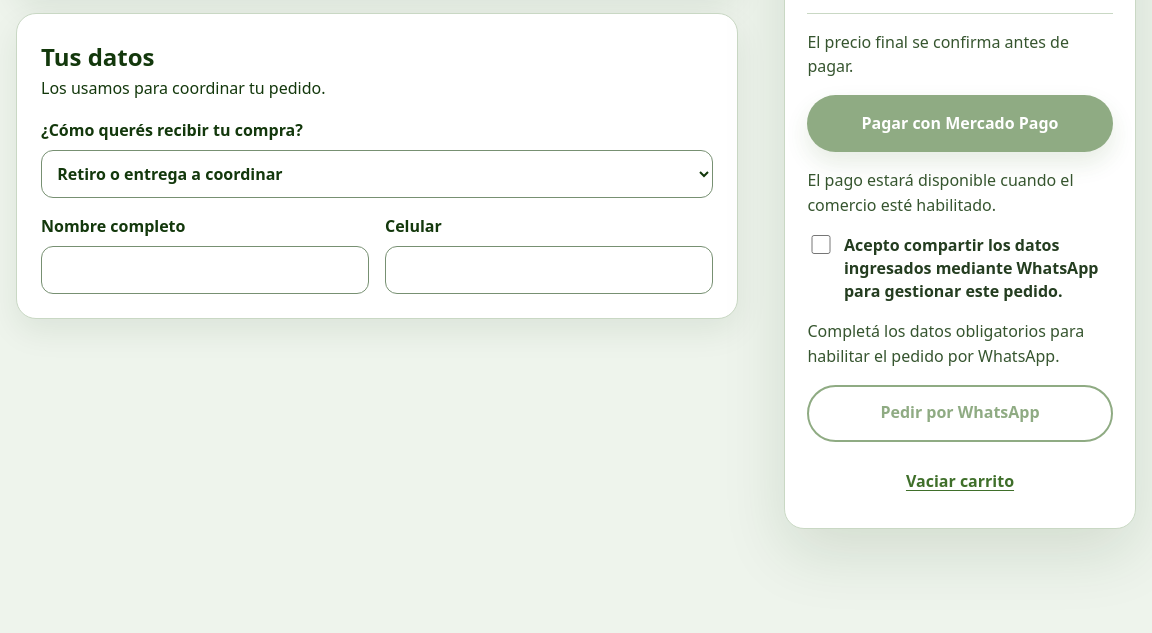
Test: CartPage › confirma el vaciado con contexto, Escape cancela y el resultado queda explícito
(page scrolled)
Click the button "Vaciar carrito" at (960, 482), box [807,458,1113,506]
(page scrolled)
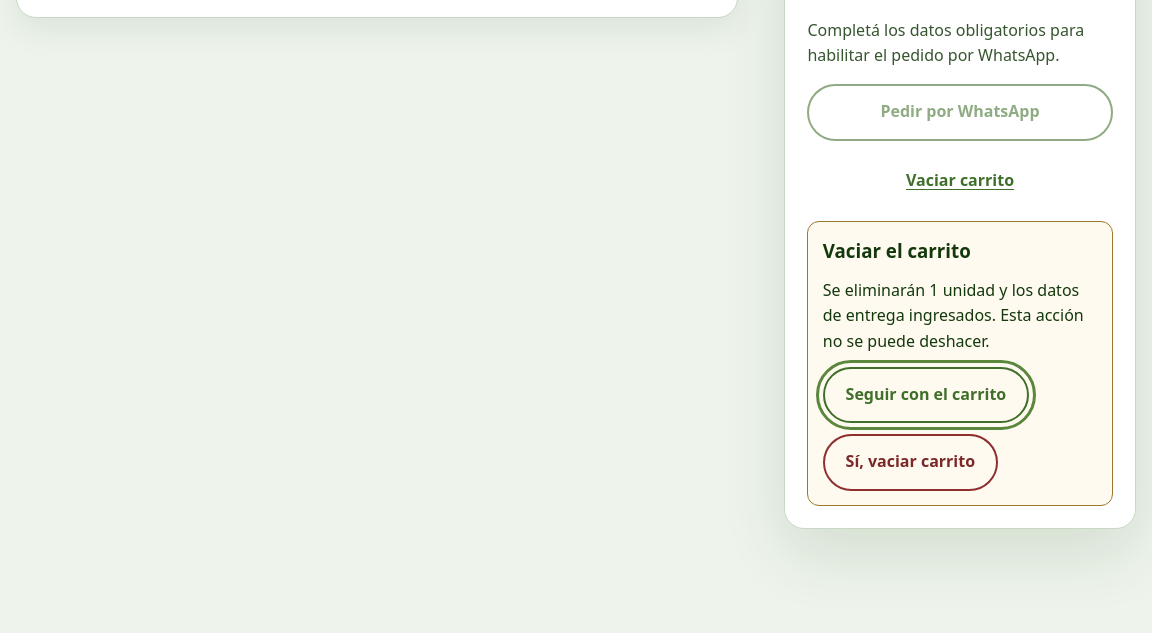
Expected: the dialog "Vaciar el carrito" shows "Se eliminarán 1 unidad", [807,220,1113,506]
Press Escape
(page scrolled)
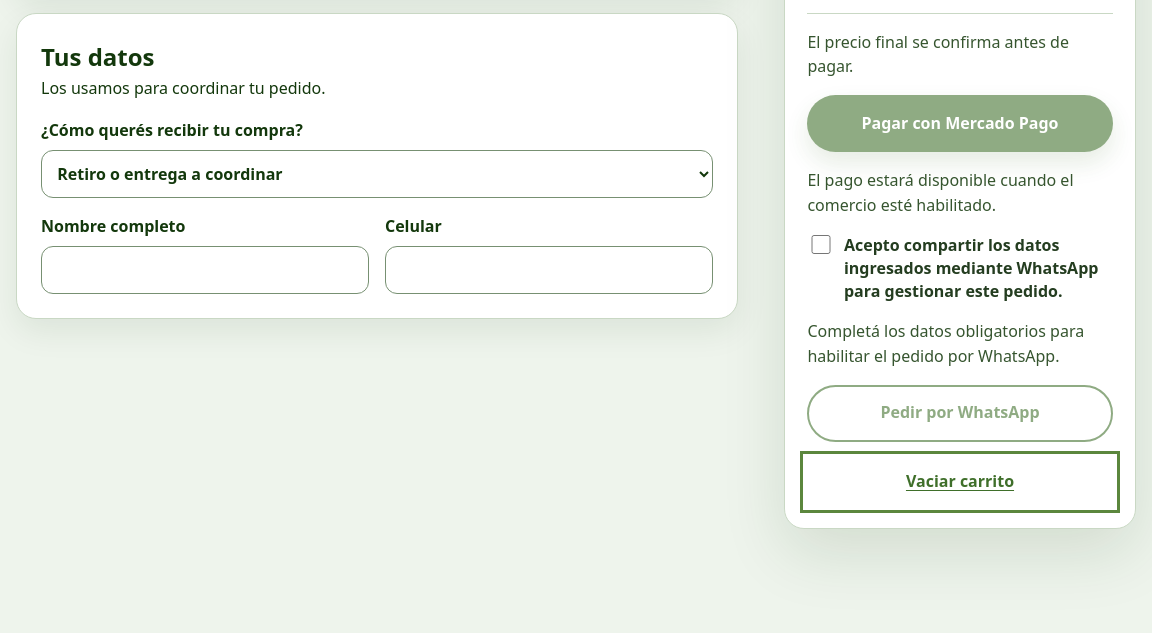
Expected: the dialog is gone
Click the button "Vaciar carrito" at (960, 482), box [807,458,1113,506]
(page scrolled)
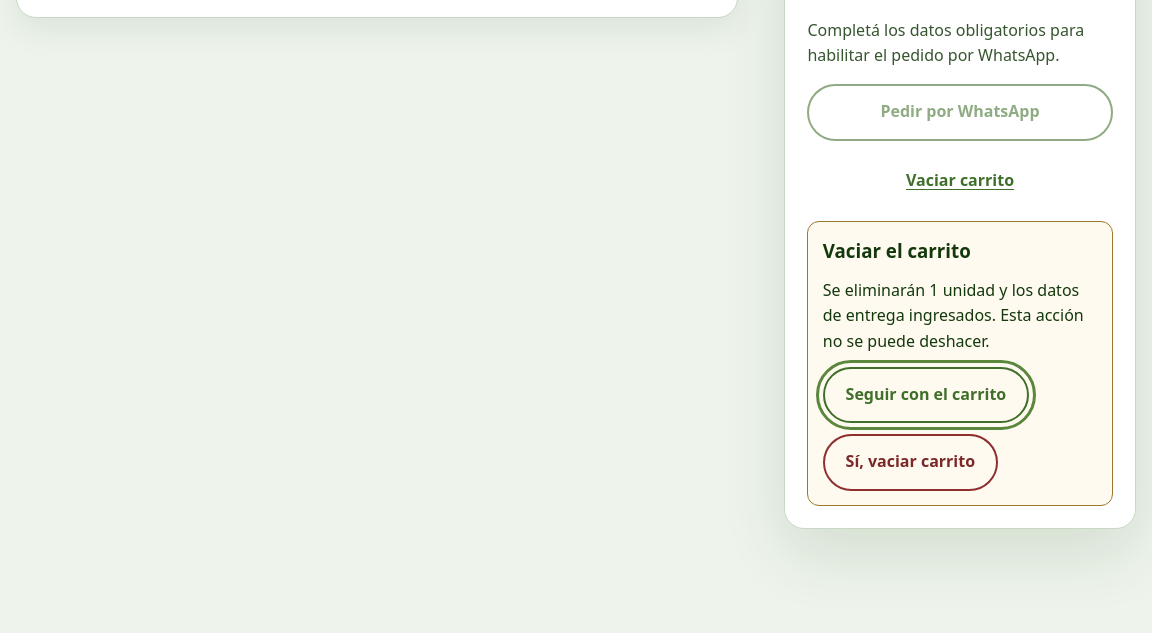
Click the button "Sí, vaciar carrito" at (910, 462), box [823,434,998,491]
(page scrolled)
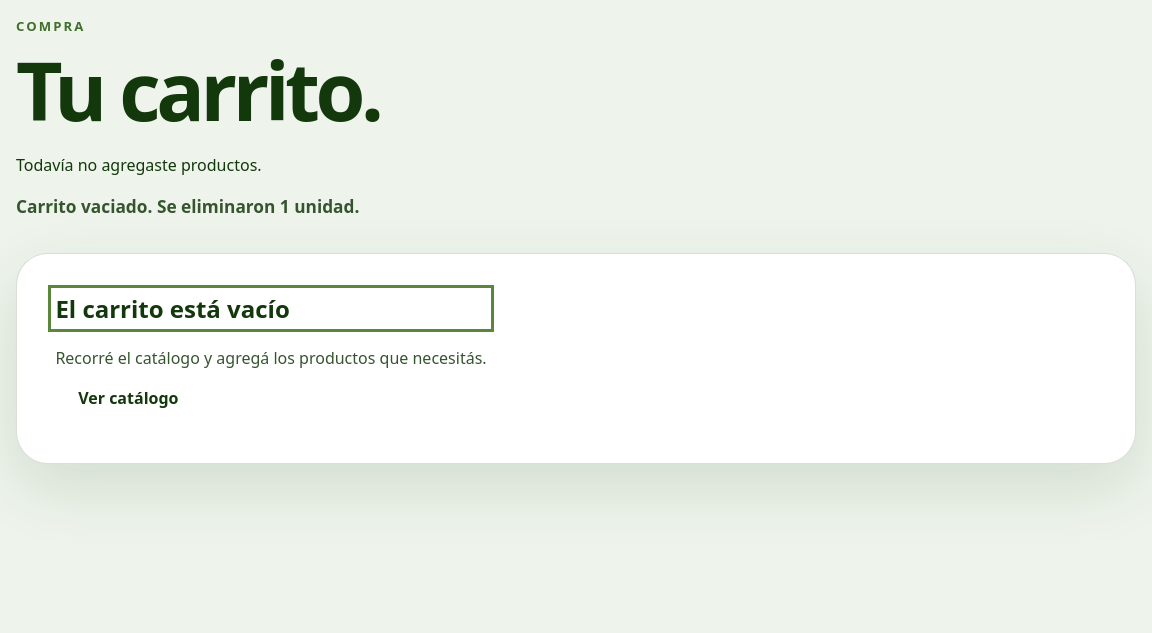
Expected: the heading "El carrito está vacío" is shown, [55,292,290,326]
